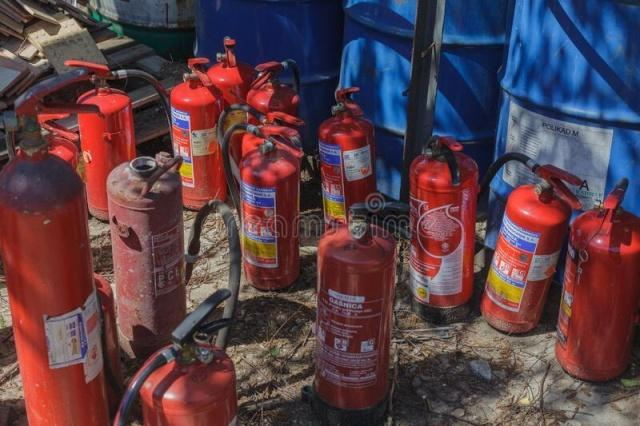APAR: (313, 201, 410, 425), (479, 162, 583, 336), (553, 177, 639, 385), (407, 135, 479, 324), (238, 125, 305, 291), (315, 86, 379, 234), (169, 56, 227, 211)
